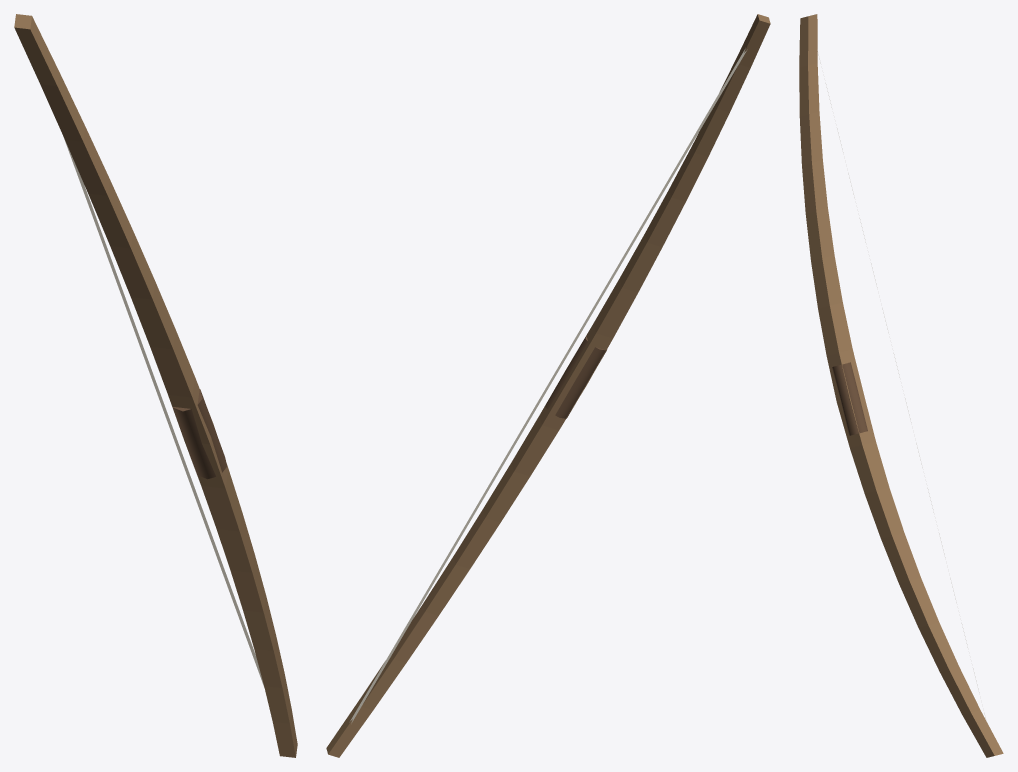
File: wpn_longbow.glb
3 views of the same model, side by side, from view 1: azimuth 30°, elevation 25°; view 2: azimuth 150°, elevation 25°; view 3: azimuth 270°, elevation 25° (orthographic). The views are drawn at different scales.
Visible parts, largest first — view 1: wpn_longbow; view 2: wpn_longbow; view 3: wpn_longbow.
Boxes of the visible parts, x1,y1,x2,y2 form: wpn_longbow: (14,14,297,757); wpn_longbow: (326,14,770,757); wpn_longbow: (799,14,1003,757).
Bounding box in the file's own units: 0.3619 × 0.7646 × 0.2306.
